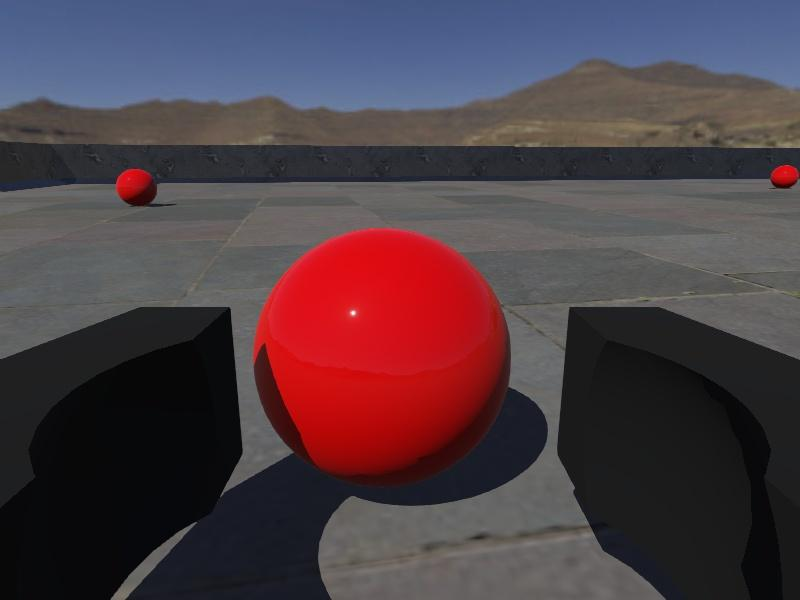red ball: (252, 227, 513, 491), (115, 168, 158, 208), (769, 164, 799, 190)
